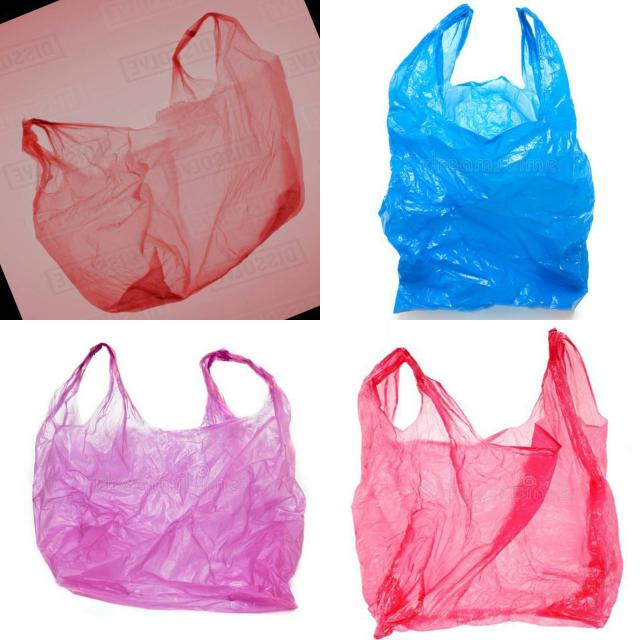Single-layer Plastic: (22, 12, 304, 312), (352, 330, 622, 637), (34, 344, 305, 612), (380, 5, 594, 312)
